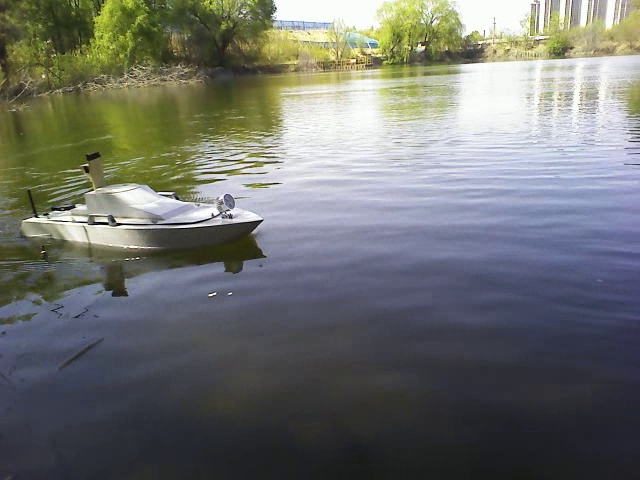boat: (18, 177, 267, 250)
